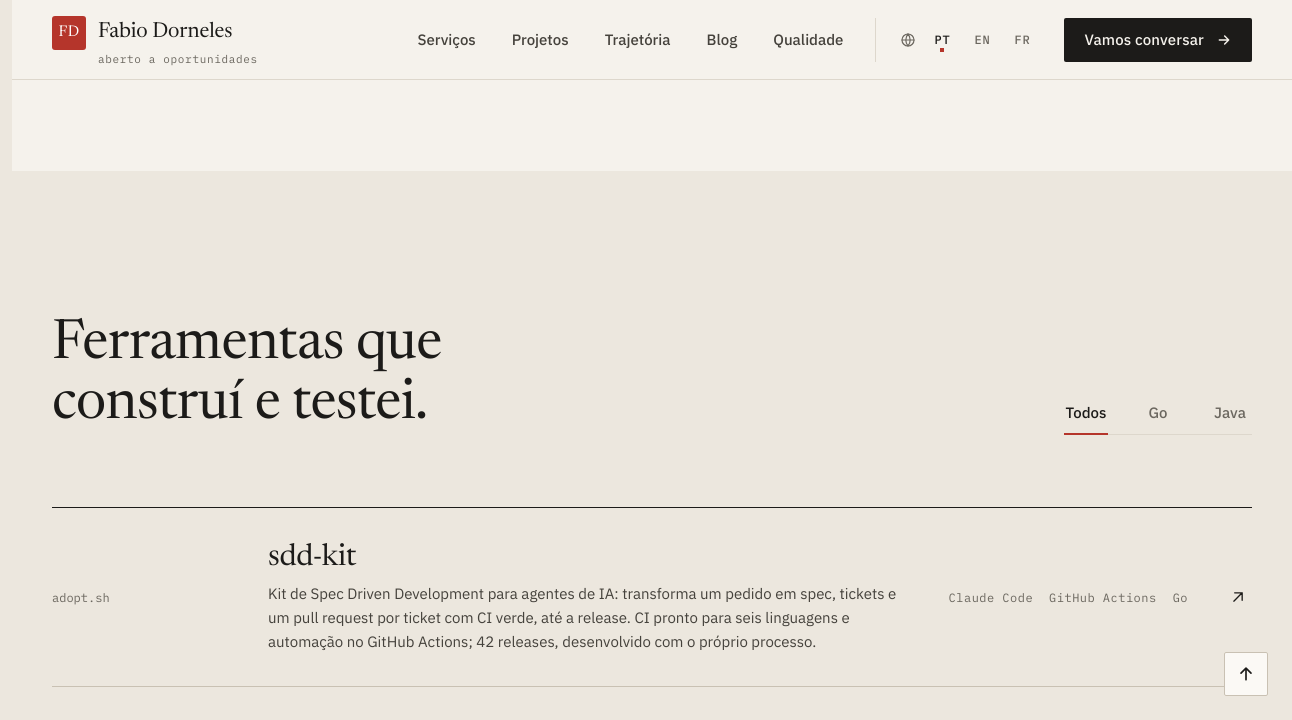
Test case: Smoke test do portfólio › filtra os projetos por linguagem
The image size is (1292, 720).
(page scrolled)
Click the button "Java" at (1230, 412), box [1208, 390, 1252, 434]
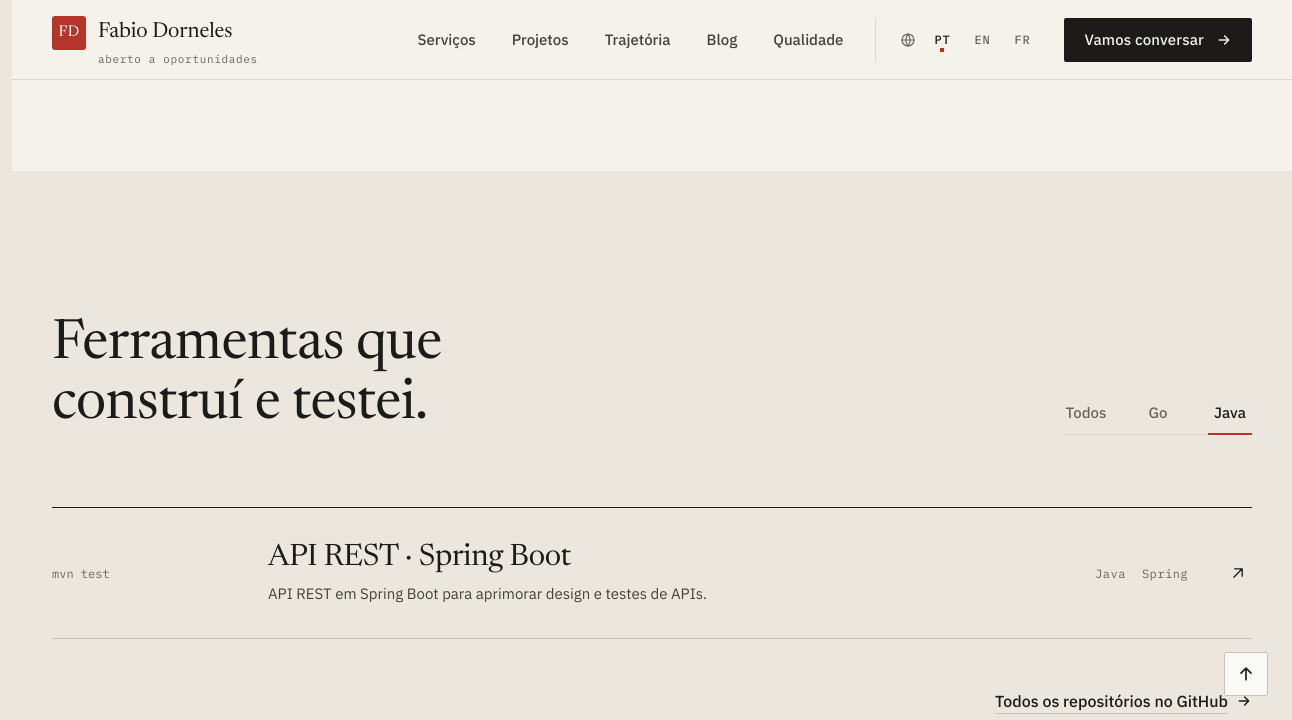
Check: the heading "API REST · Spring Boot" is shown, box [268, 543, 571, 573]
Click the button "Todos" at (1086, 412), box [1064, 390, 1108, 434]
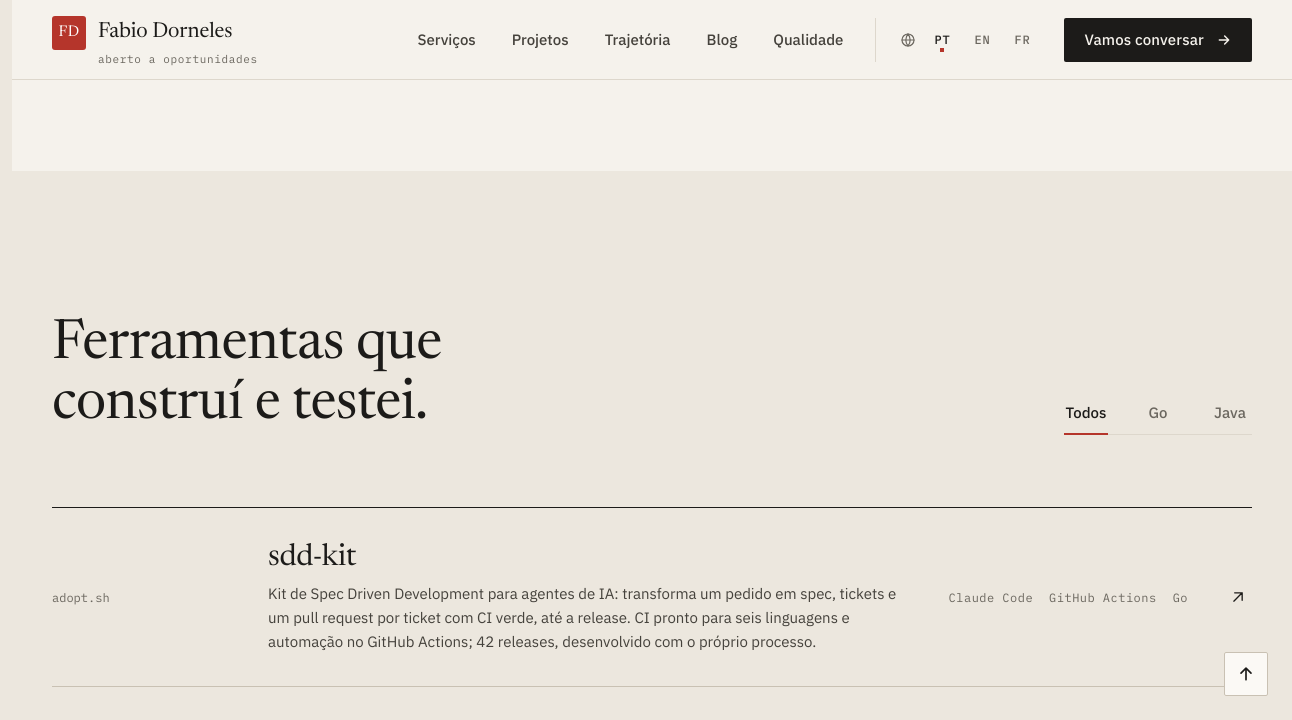
Check: the number of list items is more than 1
